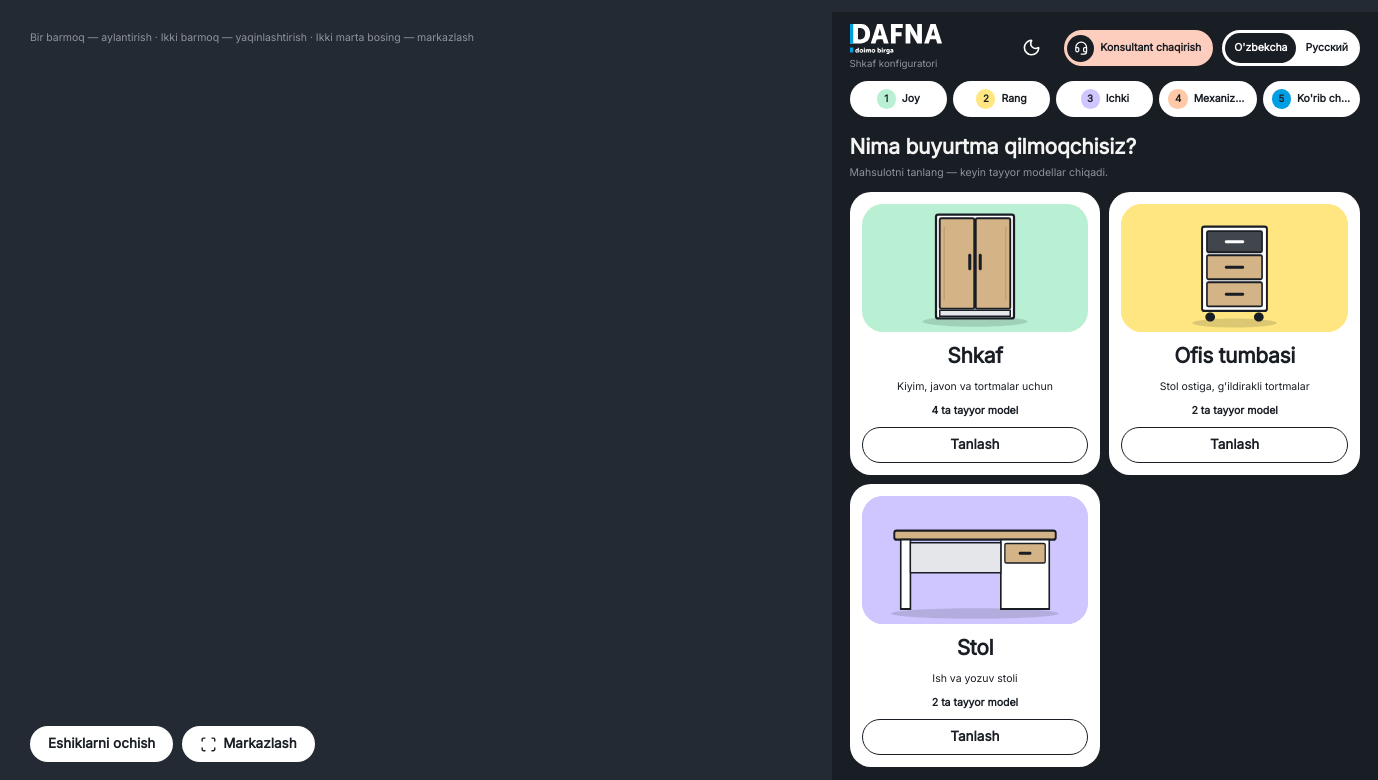
Test: D-8 desk › presentation line: work top and legs, not "Korpus / Eshik"
Click the button "Stol Ish va yozuv stoli 2 ta tayyor model Tanlash" at (975, 626), box [850,484,1100,767]
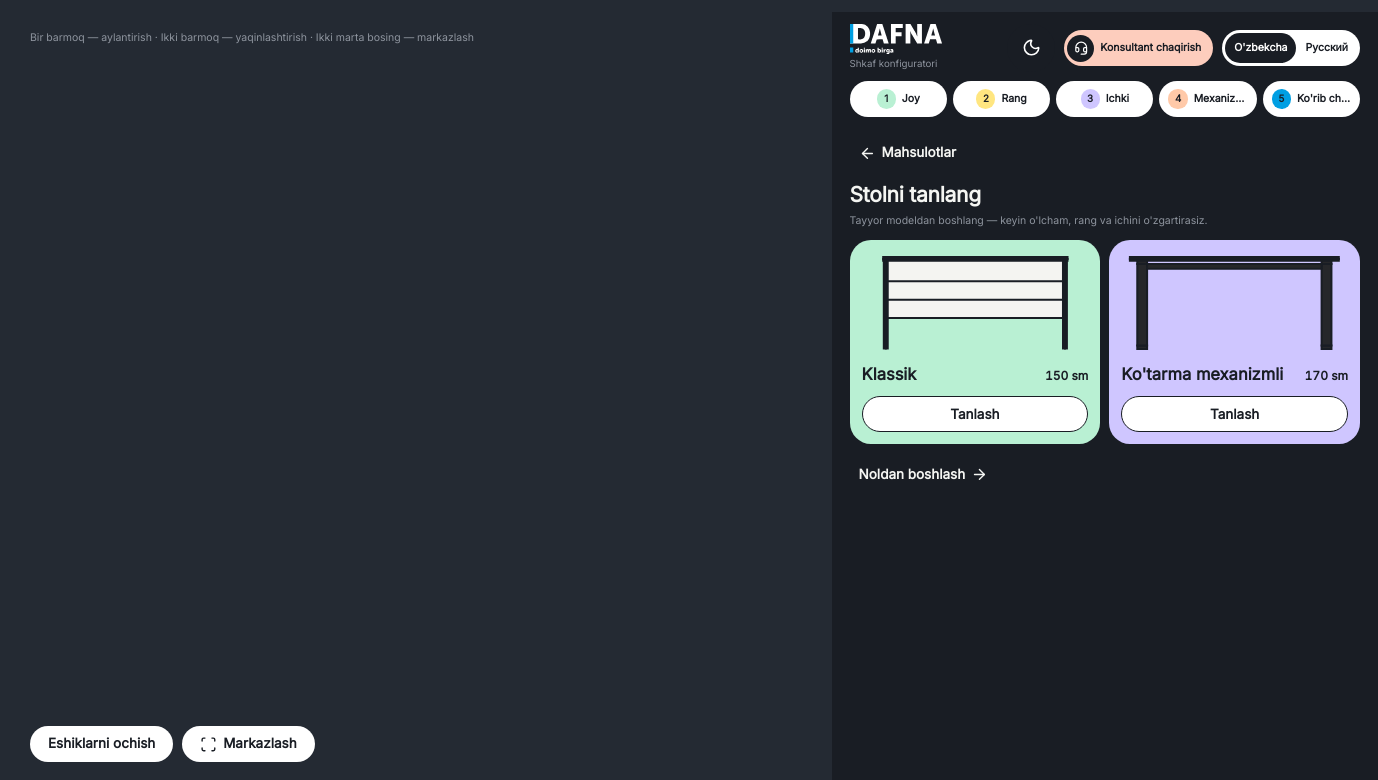
Click the button "Tanlash" below "Klassik" at (975, 414), box [862,396,1088,432]
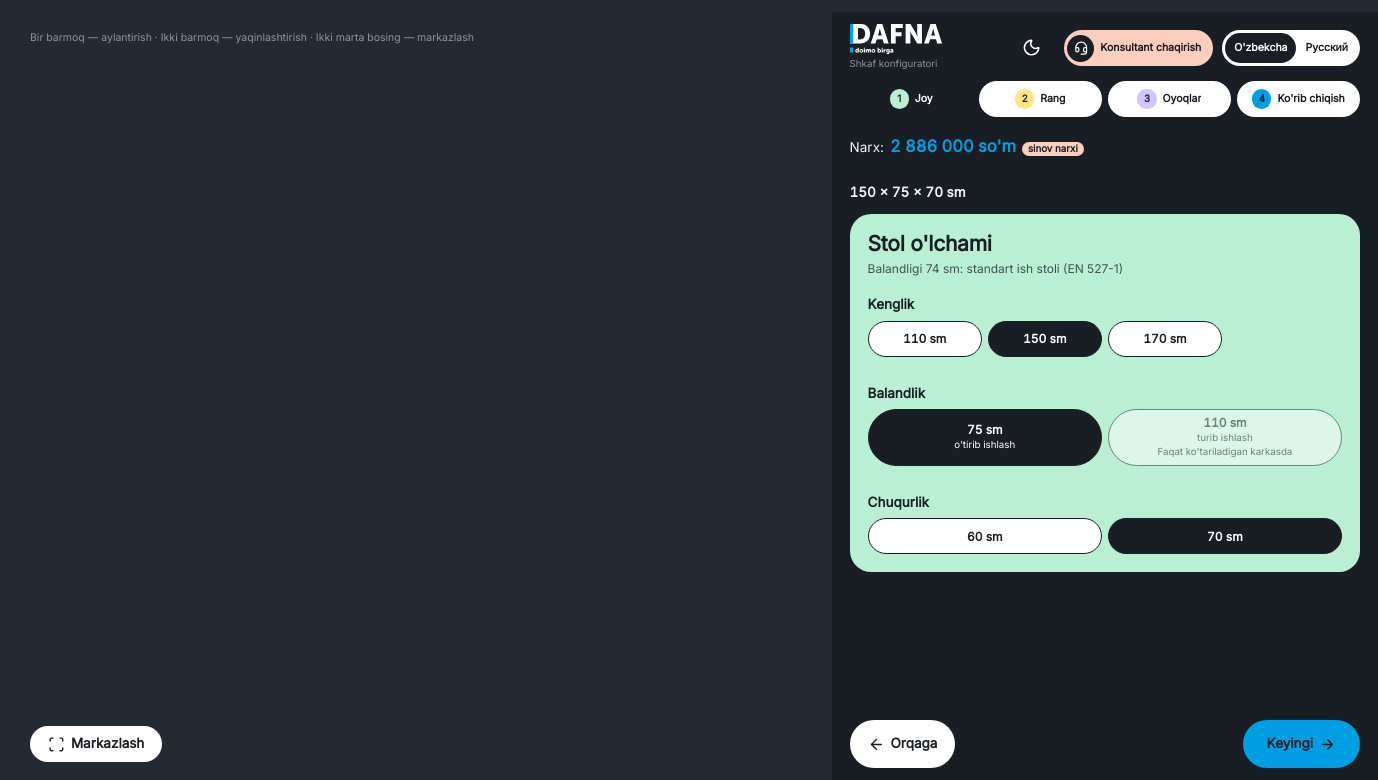
Click the button "4 Ko'rib chiqish" at (1298, 99), box [1237,81,1360,117]
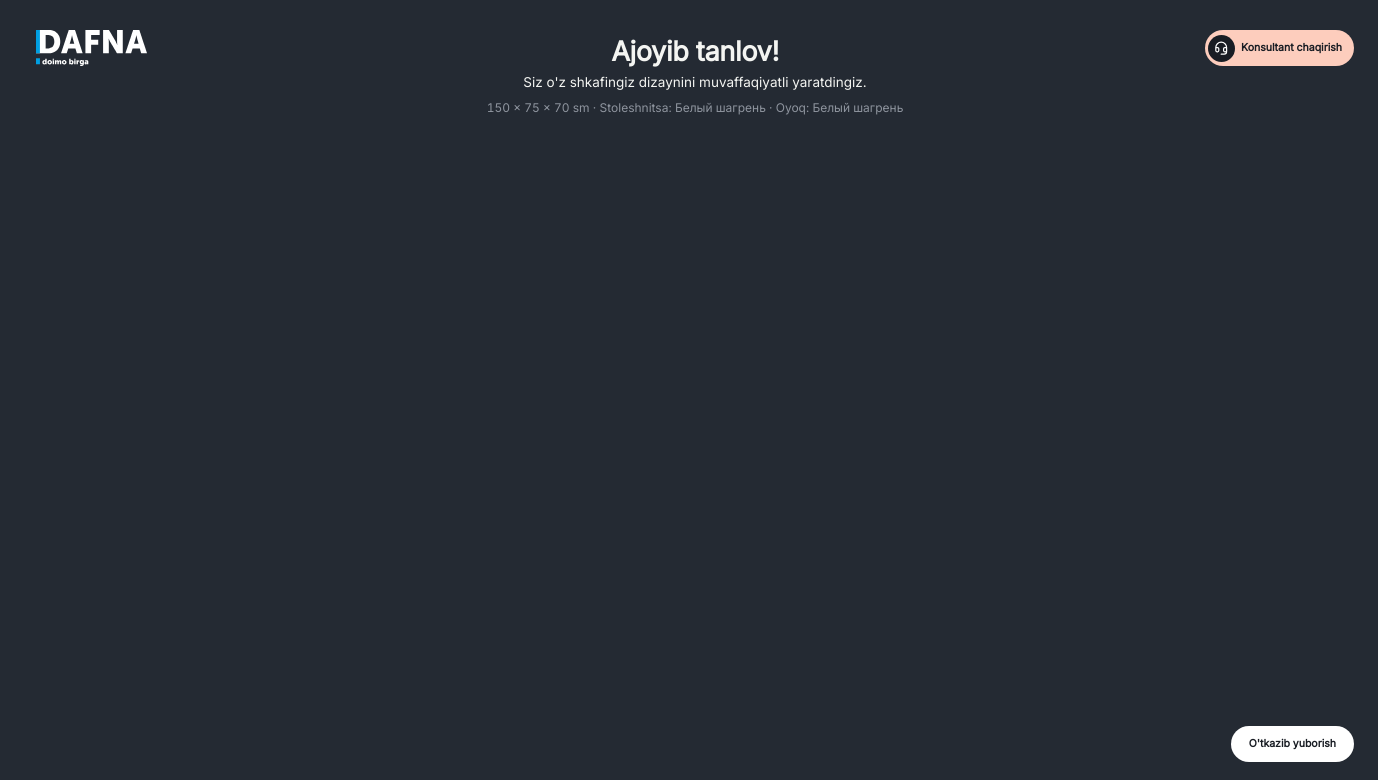
Check: the text with test id "present-summary-line" reads "150 × 75 × 70 sm · Stoleshnitsa: Белый шагрень · Oyoq: Белый шагрень", box [487,100,903,115]
